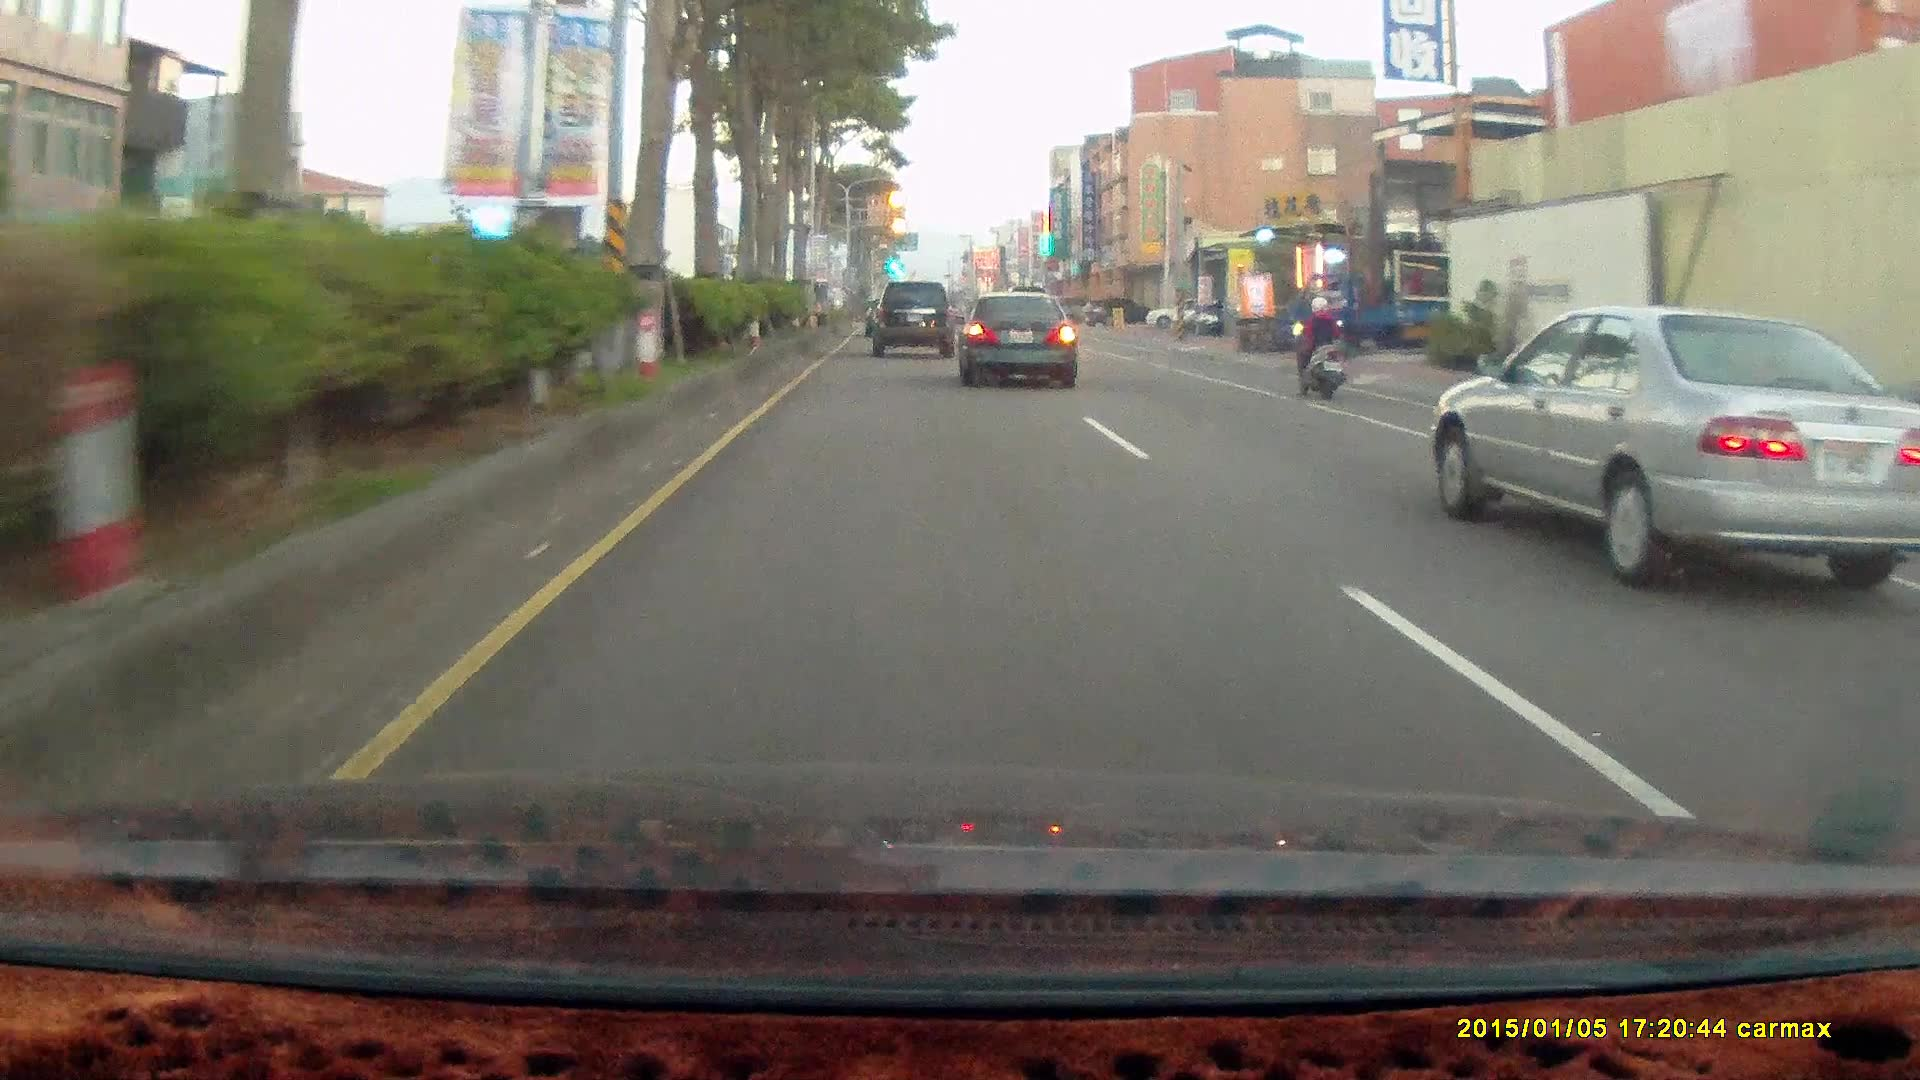rider: (1283, 285, 1359, 412), (1290, 288, 1347, 396)
vehicle: (1433, 304, 1920, 590), (1432, 304, 1917, 580), (1289, 268, 1505, 359), (1294, 269, 1455, 351), (951, 286, 1077, 385), (964, 295, 1087, 388), (871, 282, 956, 355), (874, 282, 959, 354), (1144, 296, 1210, 326), (1088, 296, 1153, 323)
